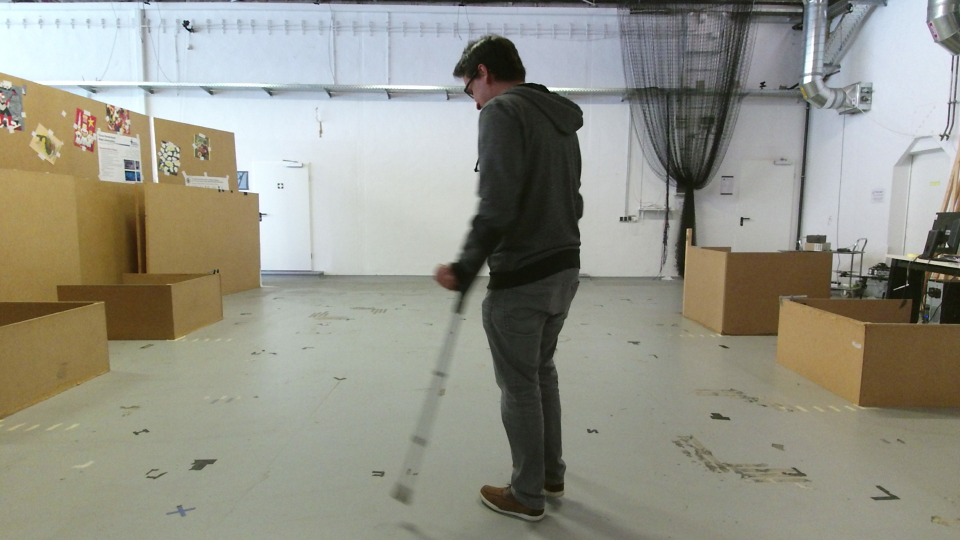crutches: (380, 37, 588, 540)
